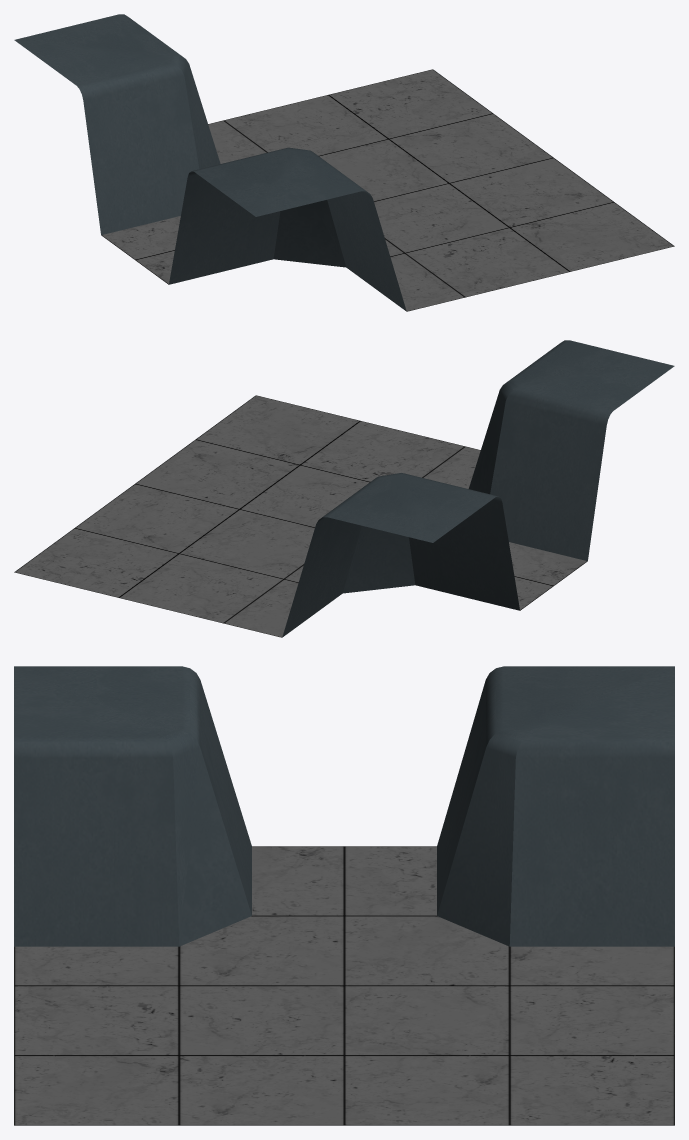
File: tileset.fbx_Collection_7.fbx
3 views of the same model, one above another, from view 1: azimuth 30°, elevation 25°; view 2: azimuth 150°, elevation 25°; view 3: azimuth 270°, elevation 25° (orthographic). The views are drawn at different scales.
Visible parts, largest first — view 1: 95_0_32_MSH; view 2: 95_0_32_MSH; view 3: 95_0_32_MSH.
Boxes of the visible parts, x1=… form: 95_0_32_MSH: x1=14, y1=14, x2=674, y2=311; 95_0_32_MSH: x1=14, y1=340, x2=674, y2=637; 95_0_32_MSH: x1=14, y1=666, x2=674, y2=1125.
Bounding box in the file's own units: 500 × 150 × 500.
